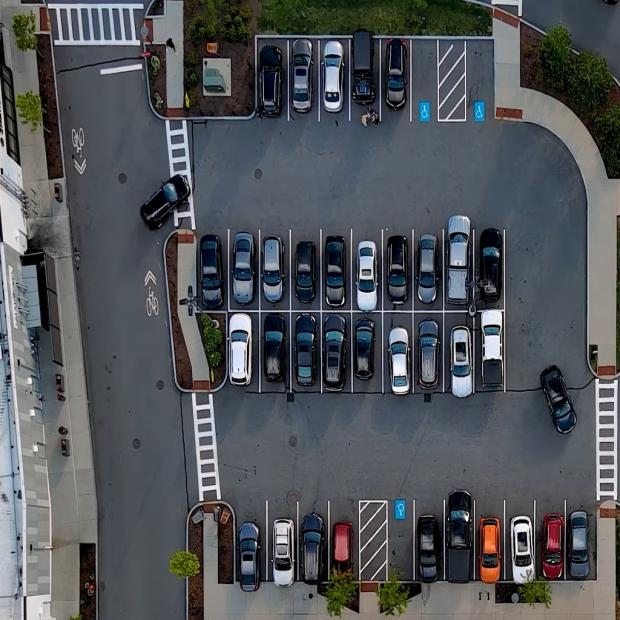car parked: (261, 39, 289, 120), (324, 40, 351, 119), (294, 40, 320, 120), (508, 500, 534, 579), (239, 498, 265, 576), (302, 500, 328, 578), (355, 41, 381, 119), (201, 231, 228, 306), (386, 40, 411, 120), (356, 314, 382, 390), (478, 313, 504, 389), (538, 502, 564, 578), (416, 315, 442, 391), (418, 500, 443, 579), (232, 313, 258, 388), (479, 228, 504, 306), (332, 500, 357, 578), (356, 232, 382, 306), (326, 231, 351, 307), (448, 232, 473, 308), (272, 500, 297, 576), (478, 500, 503, 576), (569, 502, 594, 578), (295, 314, 320, 389), (264, 313, 289, 388), (449, 499, 473, 577), (234, 232, 259, 306), (327, 314, 351, 391), (450, 315, 474, 392), (266, 230, 290, 307), (388, 315, 412, 391), (388, 231, 412, 306), (418, 231, 442, 306), (296, 232, 320, 306)
